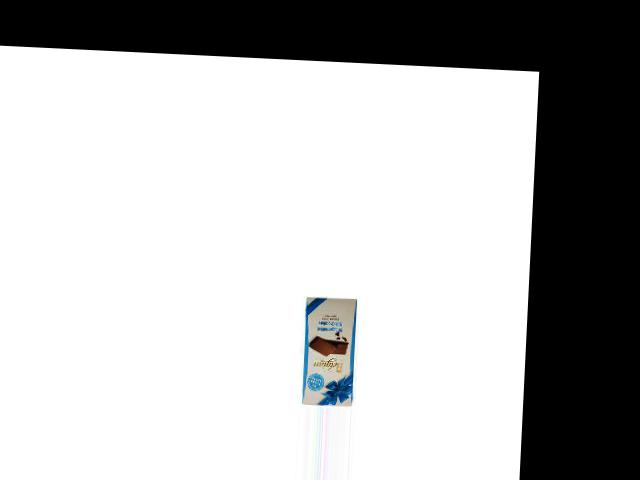chocolate: (297, 294, 364, 408)
